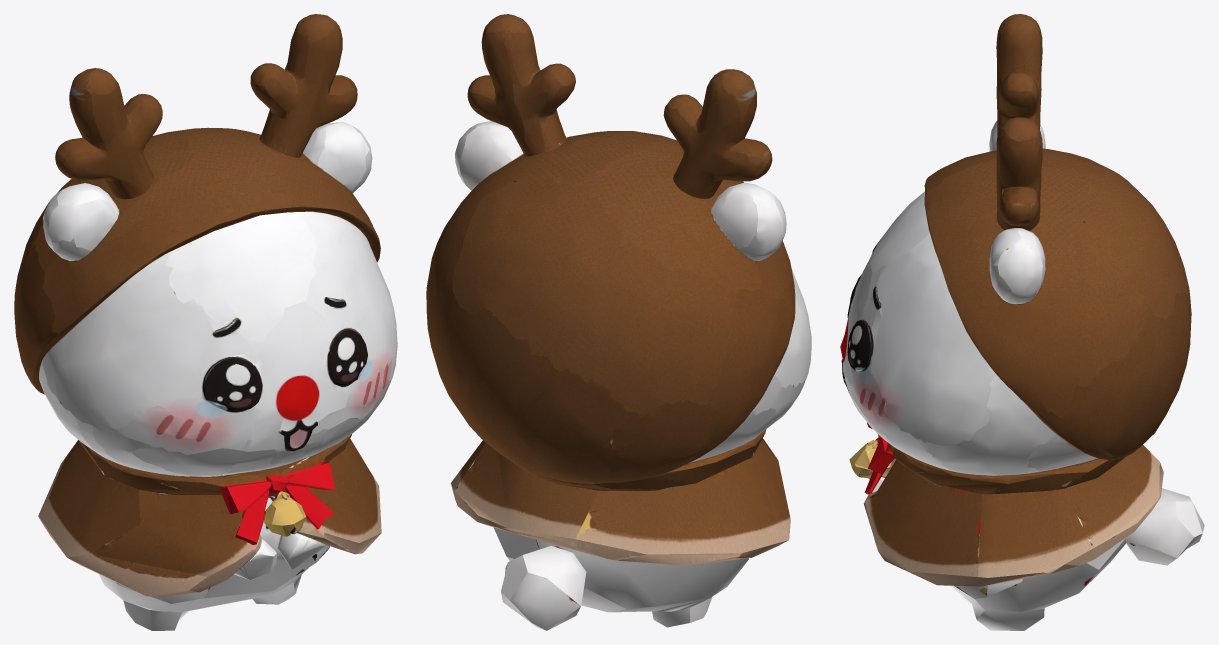
File: reindeer.glb
The picture shows the model from 3 angles, left to right: view 1: azimuth 30°, elevation 25°; view 2: azimuth 150°, elevation 25°; view 3: azimuth 270°, elevation 25°; orthographic projection. The views are drawn at different scales.
Parts seen in each view (by area): view 1: model_part3, model_part4, model_part0, model_part2, model_part1; view 2: model_part3, model_part4, model_part1, model_part2, model_part0; view 3: model_part3, model_part4, model_part1, model_part2, model_part0.
Part boxes in pixels (x1,y1,x2,y2): model_part3: (14, 122, 397, 476); model_part4: (38, 434, 381, 596); model_part0: (55, 68, 162, 199); model_part2: (250, 14, 357, 157); model_part1: (99, 496, 329, 630); model_part3: (426, 121, 811, 483); model_part4: (451, 429, 790, 565); model_part1: (493, 527, 748, 630); model_part2: (467, 14, 575, 156); model_part0: (663, 69, 772, 198); model_part3: (840, 121, 1191, 475); model_part4: (849, 422, 1163, 586); model_part1: (872, 477, 1204, 630); model_part2: (996, 117, 1042, 230); model_part0: (996, 14, 1042, 136).
Size of the model in its own units: 1.18 by 1.9 by 1.18.
1 material, 1 textured.
